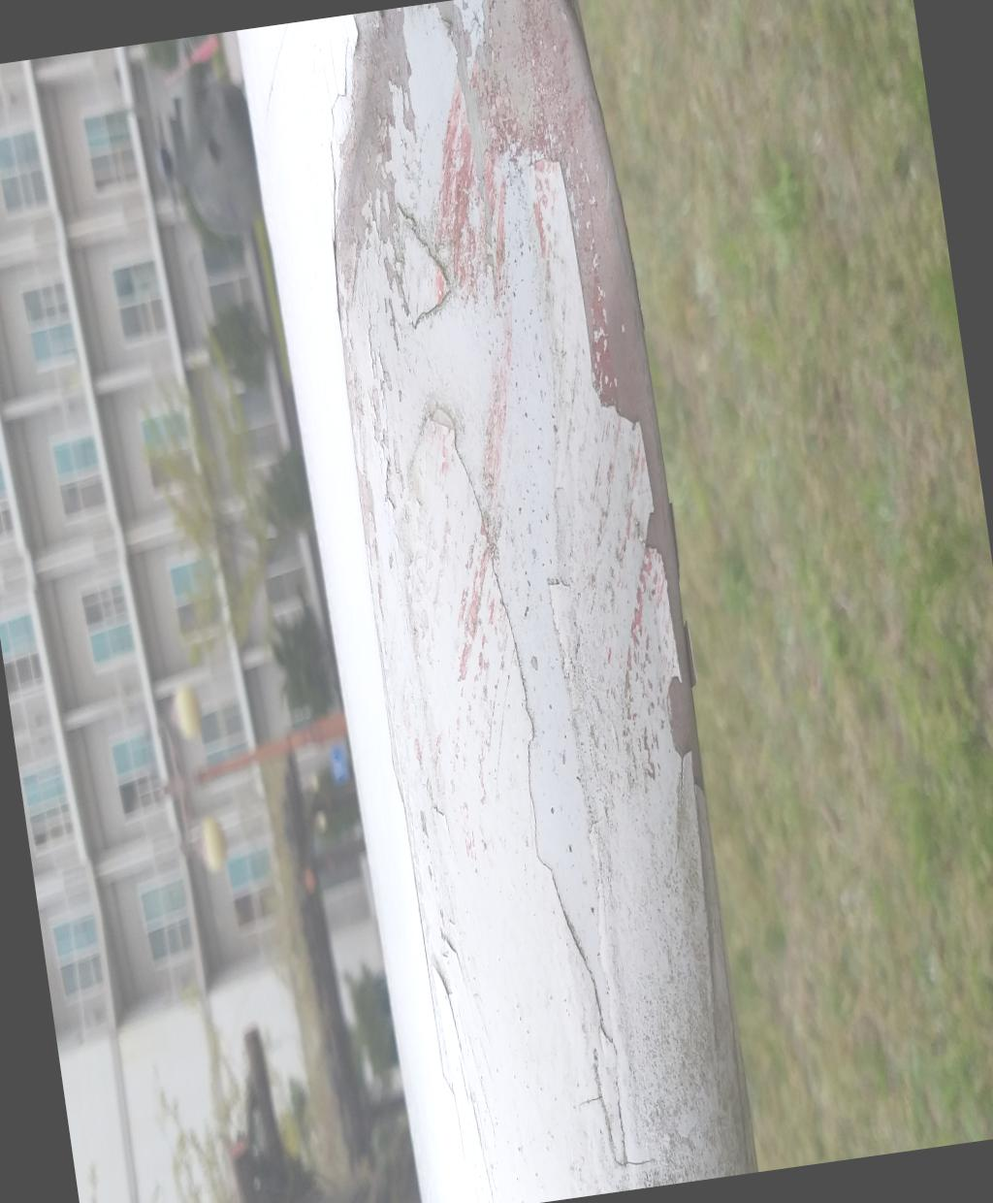corrosion: (175, 888, 642, 1203)
